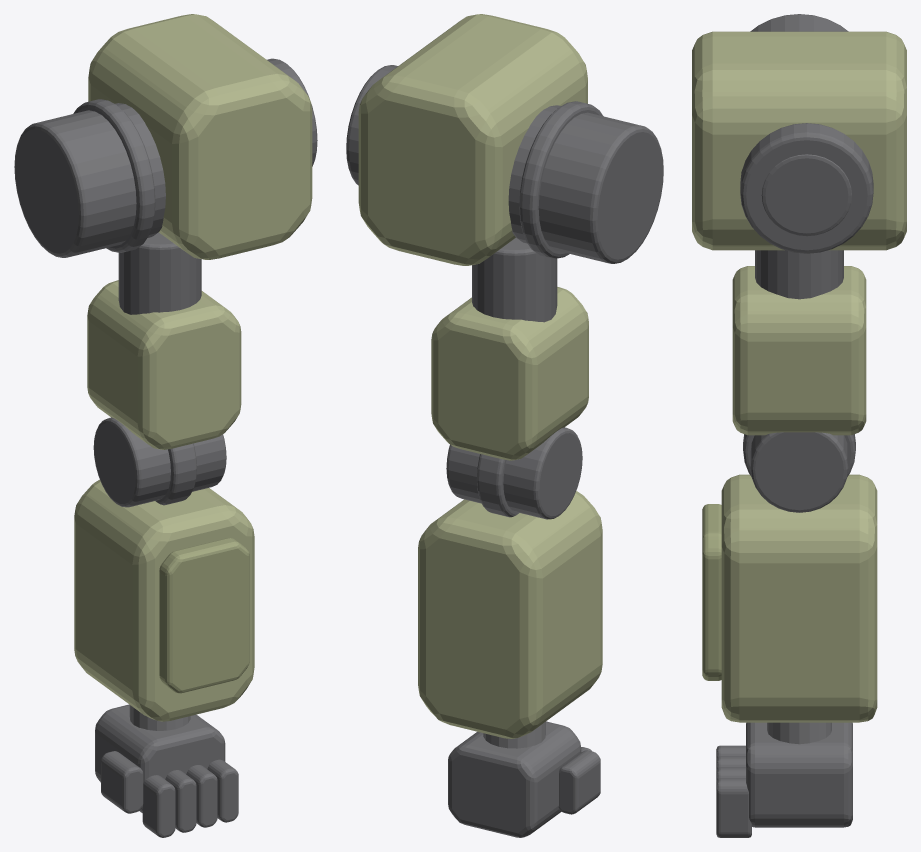
The model's file is recon_sheet_arm_l.glb.
3 renders of one model, left to right at view 1: azimuth 30°, elevation 25°; view 2: azimuth 150°, elevation 25°; view 3: azimuth 270°, elevation 25°, orthographic. The views are drawn at different scales.
Visible parts, largest first — view 1: PauldronL, ForearmL, UpperArmL, ShoulderJointL, ForearmPlateL, ElbowL, FistL, UpperJointL, ThumbL, FingerL3, FingerL2, FingerL (+3 smaller); view 2: ForearmL, PauldronL, UpperArmL, ShoulderJointL, FistL, ElbowL, UpperJointL, ThumbL, ShoulderCapL, WristL; view 3: ForearmL, PauldronL, UpperArmL, ShoulderCapL, FistL, ElbowL, UpperJointL, ForearmPlateL, FingerL, WristL, ShoulderJointL.
Boxes of the visible parts, bbox=[...] form: PauldronL: bbox=[88, 14, 312, 259]; ForearmL: bbox=[74, 479, 254, 721]; UpperArmL: bbox=[87, 280, 241, 449]; ShoulderJointL: bbox=[14, 99, 165, 257]; ForearmPlateL: bbox=[159, 538, 249, 693]; ElbowL: bbox=[93, 417, 226, 507]; FistL: bbox=[95, 704, 225, 812]; UpperJointL: bbox=[118, 232, 201, 314]; ThumbL: bbox=[101, 751, 143, 813]; FingerL3: bbox=[142, 775, 175, 837]; FingerL2: bbox=[165, 770, 196, 832]; FingerL: bbox=[207, 759, 238, 822]; ForearmL: bbox=[418, 491, 602, 738]; PauldronL: bbox=[358, 14, 587, 265]; UpperArmL: bbox=[431, 287, 588, 460]; ShoulderJointL: bbox=[508, 101, 663, 263]; FistL: bbox=[448, 721, 581, 837]; ElbowL: bbox=[446, 427, 582, 519]; UpperJointL: bbox=[472, 238, 557, 322]; ThumbL: bbox=[558, 750, 600, 814]; ShoulderCapL: bbox=[346, 65, 397, 185]; WristL: bbox=[483, 722, 545, 748]; ForearmL: bbox=[721, 474, 877, 722]; PauldronL: bbox=[692, 31, 906, 250]; UpperArmL: bbox=[732, 266, 866, 435]; ShoulderCapL: bbox=[740, 123, 873, 253]; FistL: bbox=[746, 722, 852, 827]; ElbowL: bbox=[743, 432, 855, 512]; UpperJointL: bbox=[755, 250, 843, 299]; ForearmPlateL: bbox=[702, 504, 721, 680]; FingerL: bbox=[716, 778, 751, 837]; WristL: bbox=[767, 722, 831, 744]; ShoulderJointL: bbox=[750, 14, 848, 31].
Bounding box in the file's own units: 2.05 × 5.89 × 1.45.
